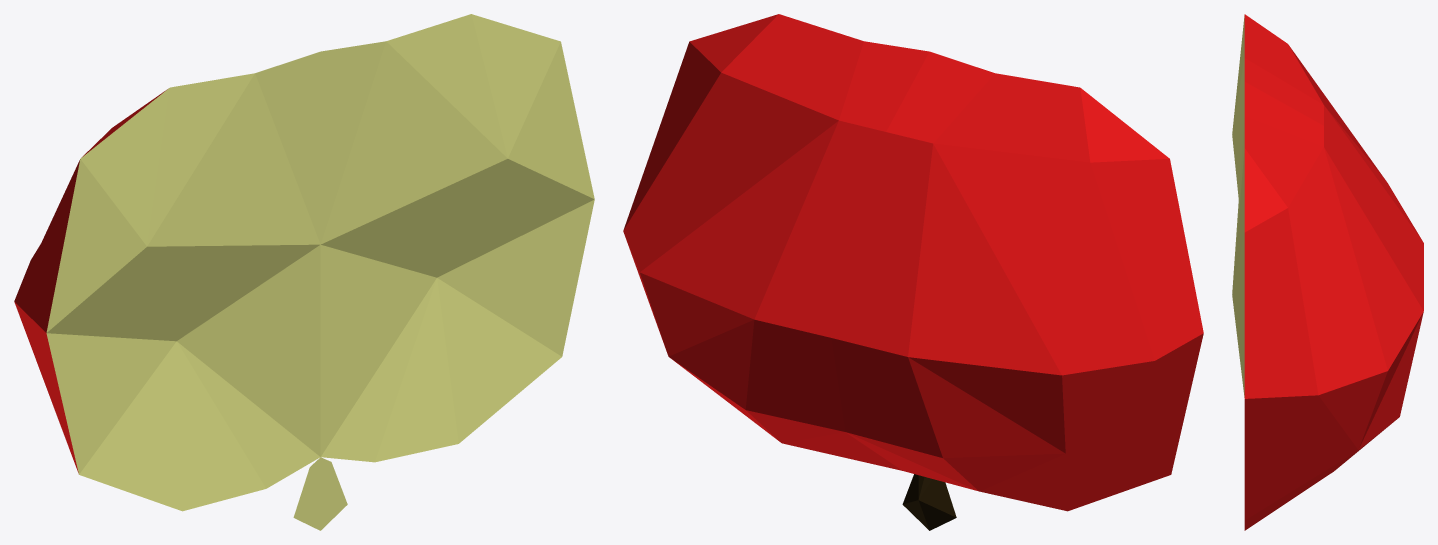
The model's file is apple.fbx.
3 renders of one model, left to right at view 1: azimuth 30°, elevation 25°; view 2: azimuth 150°, elevation 25°; view 3: azimuth 270°, elevation 25°, orthographic. The views are drawn at different scales.
Parts seen in each view (by area): view 1: Plane; view 2: Plane; view 3: Plane.
Boxes of the visible parts, box(x1,y1,x2,y2) form: Plane: box(14, 14, 594, 530); Plane: box(623, 14, 1203, 530); Plane: box(1232, 14, 1423, 530).
Size of the model in its own units: 290 by 243 by 96.52.
